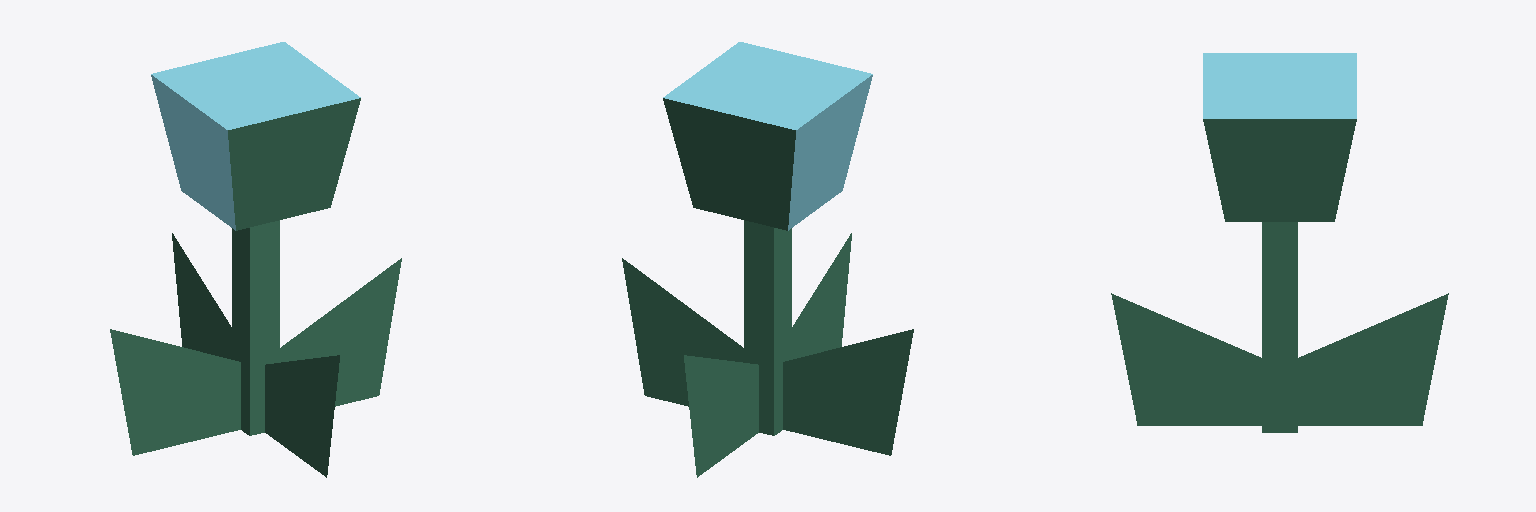
The model's file is Flower_Tall_Yellow_02.obj.
The picture shows the model from 3 angles: view 1: azimuth 30°, elevation 25°; view 2: azimuth 150°, elevation 25°; view 3: azimuth 270°, elevation 25°; orthographic projection.
Parts seen in each view (by area): view 1: Mesh1_Flower_Tall_Yellow_Model.001, Mesh5_Flower_Tall_Yellow_Model.001, Mesh2_Flower_Tall_Yellow_Model.001, Mesh4_Flower_Tall_Yellow_Model.001, Mesh3_Flower_Tall_Yellow_Model.001; view 2: Mesh1_Flower_Tall_Yellow_Model.001, Mesh5_Flower_Tall_Yellow_Model.001, Mesh2_Flower_Tall_Yellow_Model.001, Mesh3_Flower_Tall_Yellow_Model.001, Mesh4_Flower_Tall_Yellow_Model.001; view 3: Mesh1_Flower_Tall_Yellow_Model.001, Mesh3_Flower_Tall_Yellow_Model.001, Mesh4_Flower_Tall_Yellow_Model.001.
Boxes of the visible parts, box(x1,y1,x2,y2) form: Mesh1_Flower_Tall_Yellow_Model.001: box(151, 42, 360, 435); Mesh5_Flower_Tall_Yellow_Model.001: box(110, 329, 240, 455); Mesh2_Flower_Tall_Yellow_Model.001: box(280, 258, 401, 406); Mesh4_Flower_Tall_Yellow_Model.001: box(265, 355, 339, 477); Mesh3_Flower_Tall_Yellow_Model.001: box(172, 233, 231, 359); Mesh1_Flower_Tall_Yellow_Model.001: box(663, 42, 872, 435); Mesh5_Flower_Tall_Yellow_Model.001: box(783, 329, 913, 455); Mesh2_Flower_Tall_Yellow_Model.001: box(622, 258, 743, 406); Mesh3_Flower_Tall_Yellow_Model.001: box(684, 355, 758, 477); Mesh4_Flower_Tall_Yellow_Model.001: box(792, 233, 851, 359); Mesh1_Flower_Tall_Yellow_Model.001: box(1203, 53, 1356, 432); Mesh3_Flower_Tall_Yellow_Model.001: box(1298, 293, 1448, 425); Mesh4_Flower_Tall_Yellow_Model.001: box(1111, 293, 1261, 425).
Bounding box in the file's own units: 0.4859 × 0.54 × 0.4859.